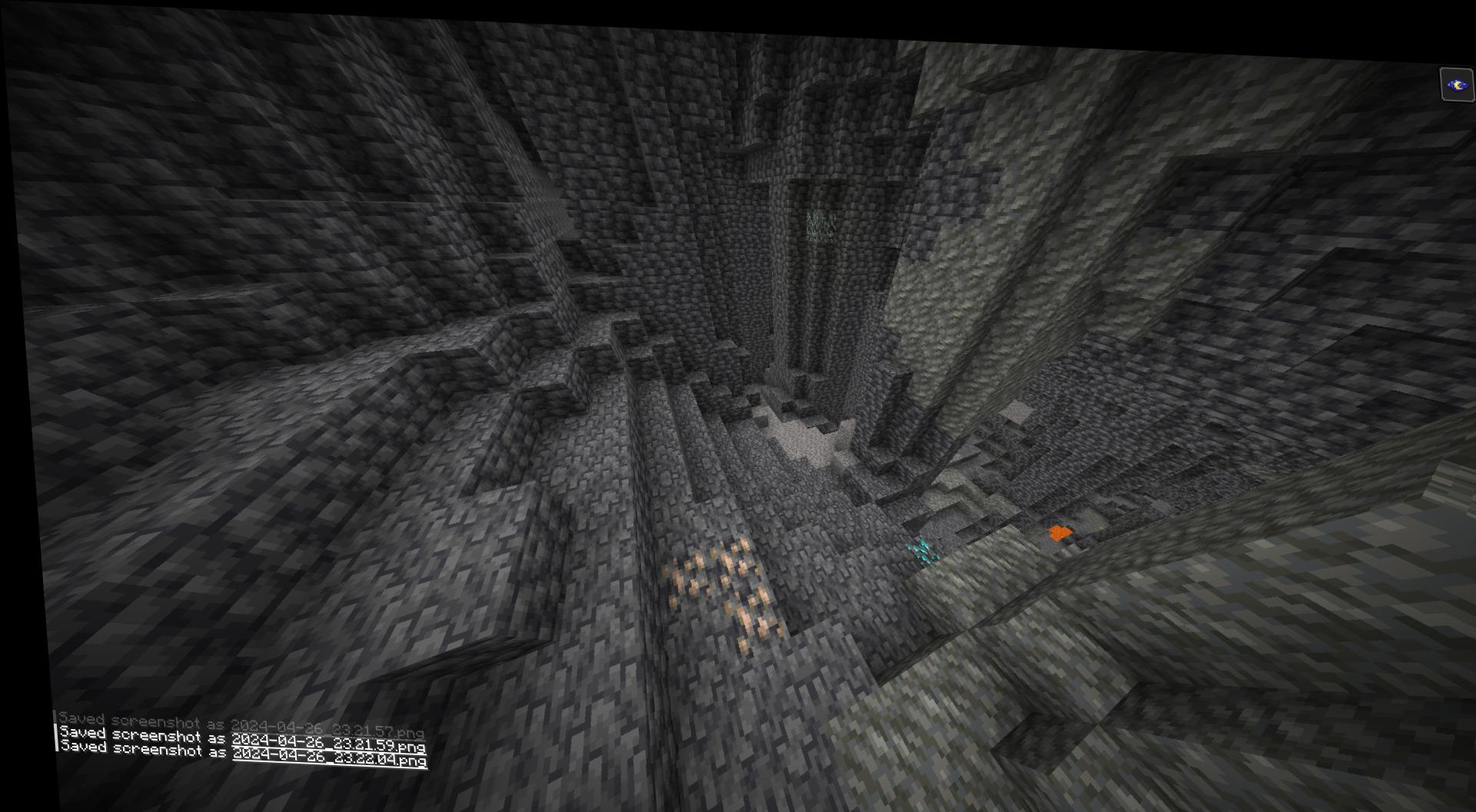diamond ore: (890, 527, 935, 562)
iron ore: (712, 581, 775, 649), (645, 542, 706, 601), (699, 529, 753, 584)
